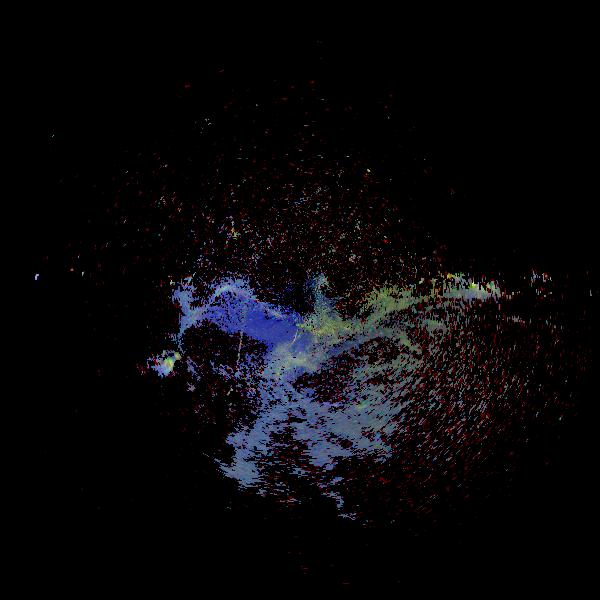roost: (154, 355, 175, 376), (186, 384, 198, 396)
